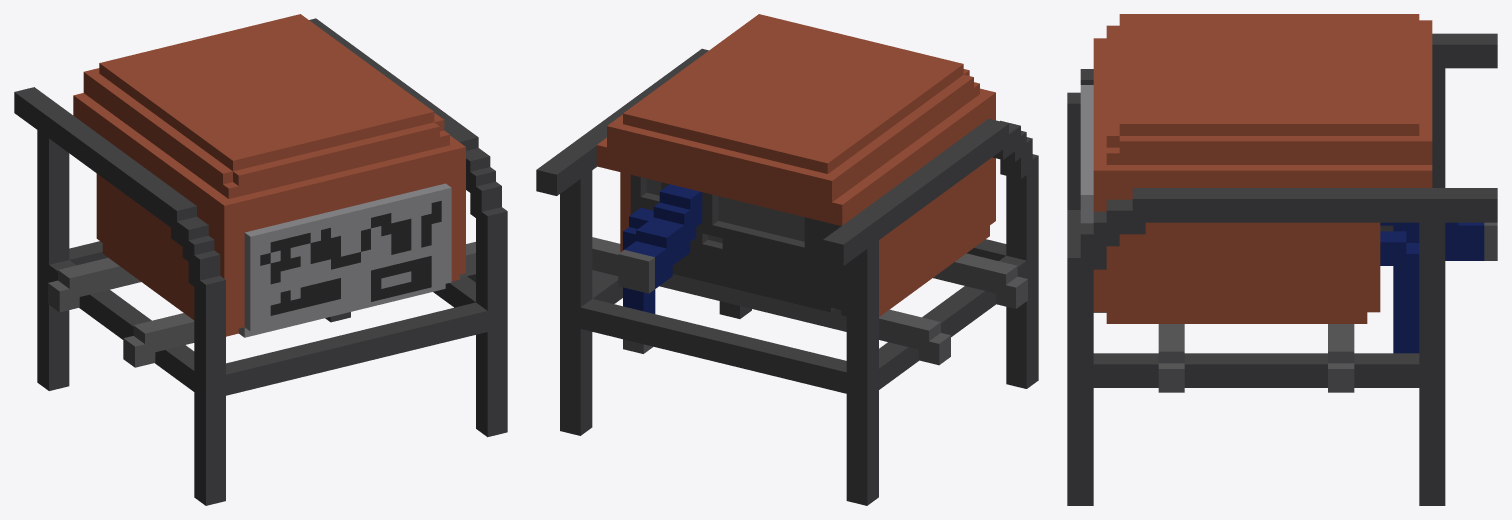
File: Architeture1-2.obj
The picture shows the model from 3 angles, left to right: view 1: azimuth 30°, elevation 25°; view 2: azimuth 150°, elevation 25°; view 3: azimuth 270°, elevation 25°; orthographic projection. The views are drawn at different scales.
Bounding box in the file's own units: 3.6 × 3 × 3.3.
1 material, 1 textured.
